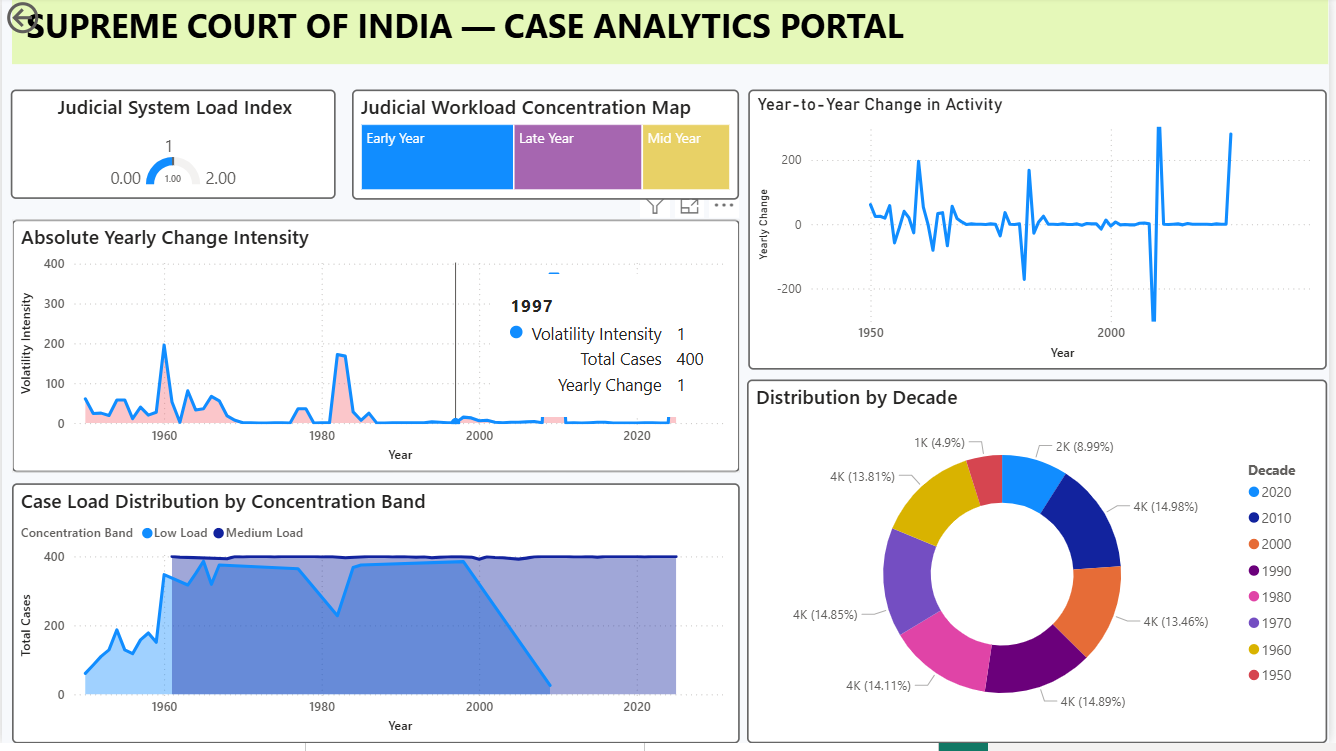

What the dashboard file says about the page in this screenshot:
{"tool":"powerbi","page":{"name":"Judicial Behaviour & Case Dynamics","canvas":[1280,720],"ordinal":2},"visuals":[{"type":"textbox","box":[10,0,1270,65],"z":0},{"type":"actionButton","box":[0,0,100,40],"z":1000},{"type":"donutChart","title":"Distribution by Decade","fields":{"Category":["DateTable.Decade"],"Y":["judgments.Total Cases"]},"box":[719,369.2,559.8,351.1],"z":2000},{"type":"lineChart","title":"Year-to-Year Change in Activity","fields":{"Category":["DateTable.Year"],"Y":["DateTable.Yearly Change"]},"box":[720.2,89.3,558.6,270.2],"z":3000},{"type":"stackedAreaChart","title":"Case Load Distribution by Concentration Band","fields":{"Category":["DateTable.Year"],"Series":["DateTable.Concentration Band"],"Y":["judgments.Total Cases"]},"box":[9.7,469.3,702.1,250.9],"z":4000},{"type":"areaChart","title":"Absolute Yearly Change Intensity","fields":{"Category":["DateTable.Year"],"Y":["DateTable.Volatility Intensity"]},"box":[9.7,214.7,702.1,243.7],"z":5000},{"type":"gauge","title":"Judicial System Load Index","fields":{"Y":["judgments.System Load Index"]},"box":[8.9,89.2,313.8,105.6],"z":6000},{"type":"treemap","title":"Judicial Workload Concentration Map","fields":{"Details":["DateTable.Month Group"],"Values":["judgments.Total Cases"]},"box":[337.8,89.3,374,106.2],"z":7000}]}

Visuals, with their boxes in screenshot pixels (x1, y1, x2, y2), scaled from the page's 1280x720 canvas onto the 1336x751 screenshot:
textbox: l=10, t=0, r=1335, b=68
actionButton: l=0, t=0, r=104, b=42
"Distribution by Decade" donutChart: l=750, t=385, r=1335, b=750
"Year-to-Year Change in Activity" lineChart: l=752, t=93, r=1335, b=375
"Case Load Distribution by Concentration Band" stackedAreaChart: l=10, t=490, r=743, b=750
"Absolute Yearly Change Intensity" areaChart: l=10, t=224, r=743, b=478
"Judicial System Load Index" gauge: l=9, t=93, r=337, b=203
"Judicial Workload Concentration Map" treemap: l=353, t=93, r=743, b=204
